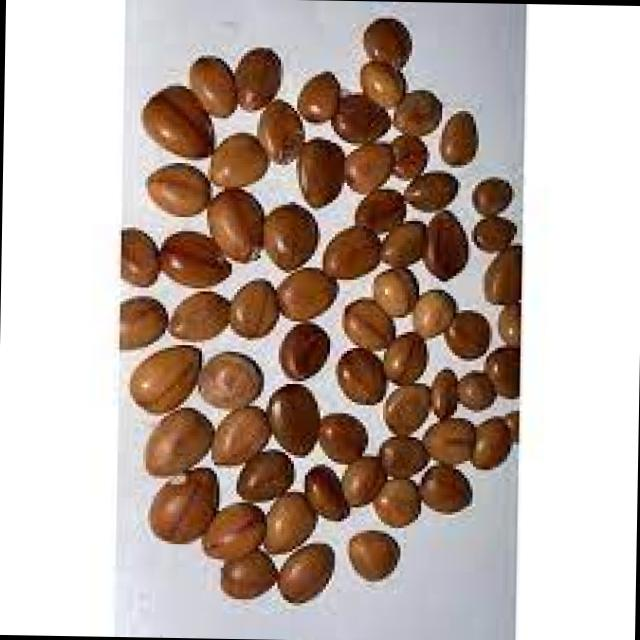Amaltas: (122, 32, 530, 635)
